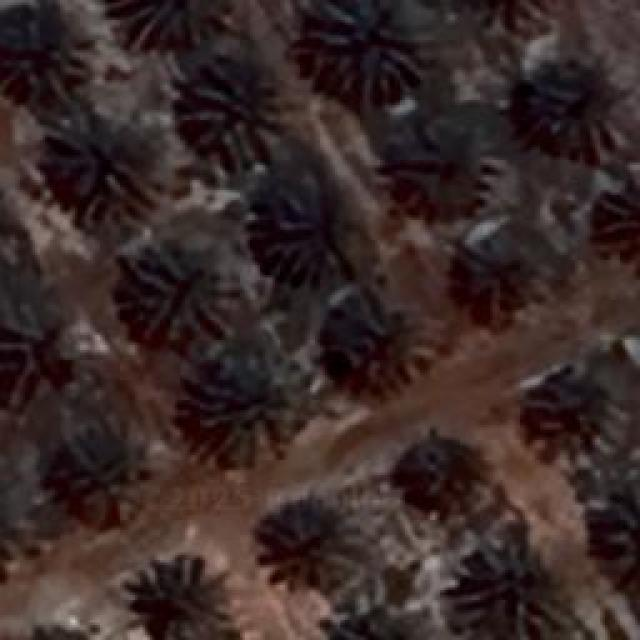PalmTree: (44, 116, 168, 219), (302, 0, 422, 102), (125, 242, 240, 340), (190, 355, 308, 450), (448, 540, 560, 635), (262, 175, 360, 280), (59, 430, 149, 530), (188, 68, 282, 162), (312, 570, 436, 640), (0, 10, 82, 110), (530, 368, 622, 456), (130, 555, 230, 635), (529, 62, 619, 150), (392, 127, 486, 210), (261, 494, 349, 582), (454, 236, 548, 316), (355, 302, 435, 390), (399, 431, 479, 519), (0, 304, 60, 412), (580, 168, 640, 276), (580, 477, 640, 585), (0, 432, 38, 580), (110, 0, 225, 45), (449, 0, 568, 38), (0, 161, 28, 280), (15, 618, 104, 640)
